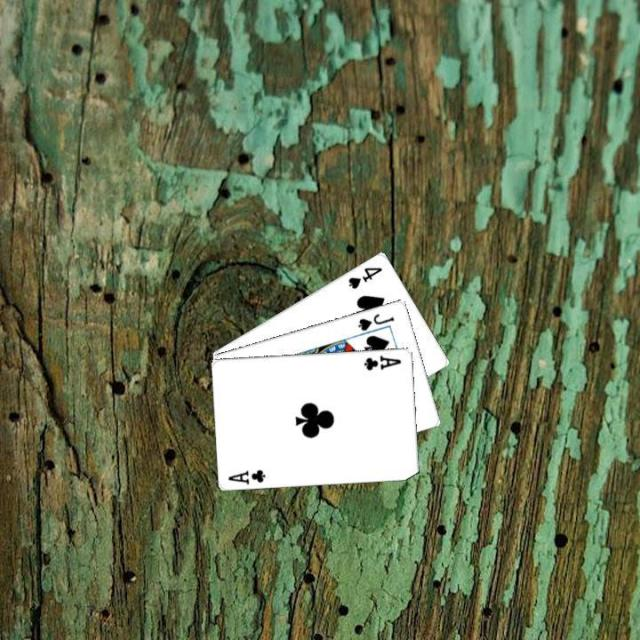4S: (344, 263, 384, 291)
AC: (361, 351, 403, 372), (225, 465, 267, 486)
JS: (354, 310, 396, 332)
